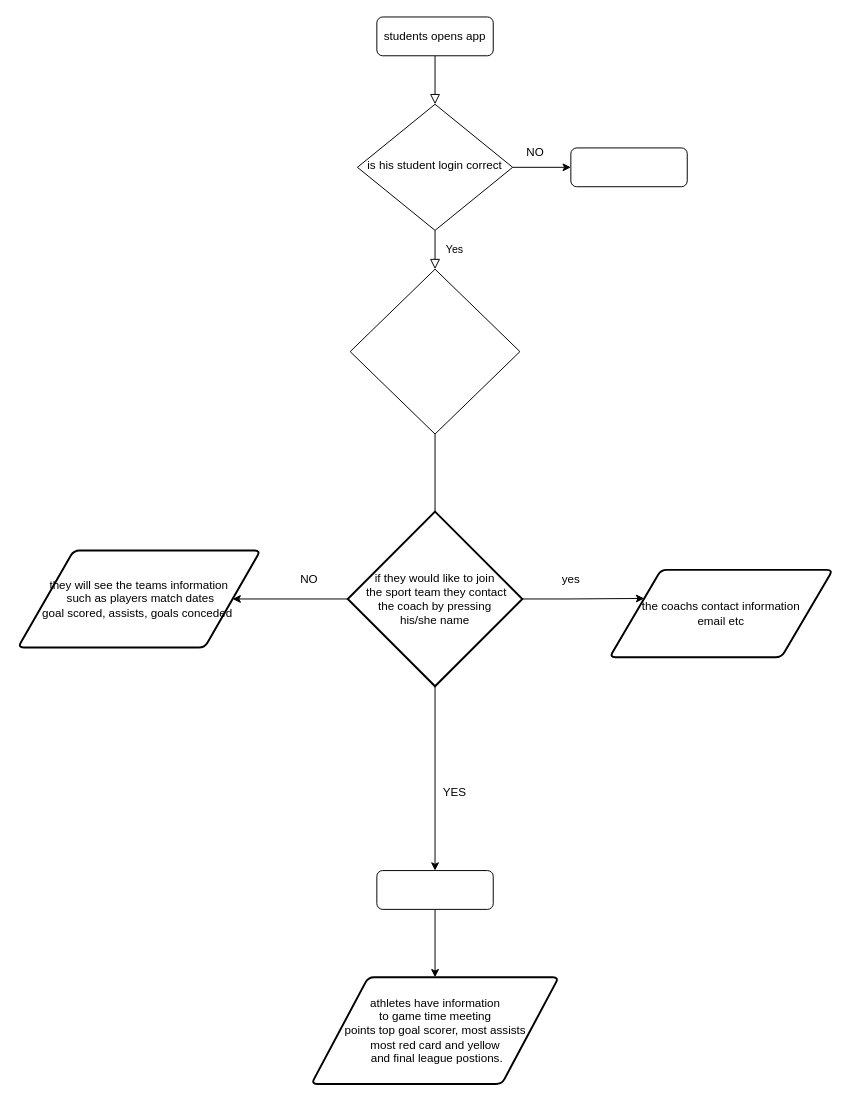
The diagram is 850 pixels wide and 1102 high, and some of its shapes have lost their labels. Each missing label, with the box of its shape:
Joins team: (376, 870, 493, 909)
show the home page with all the tabs of different sports the college offers: (349, 268, 520, 434)
try again: (570, 147, 687, 187)
